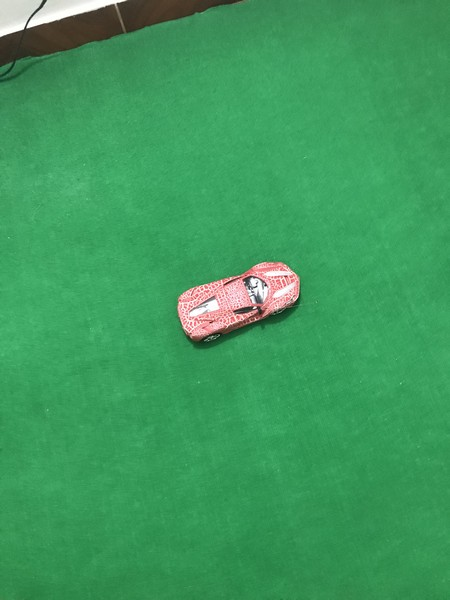RC: (173, 261, 304, 345)
